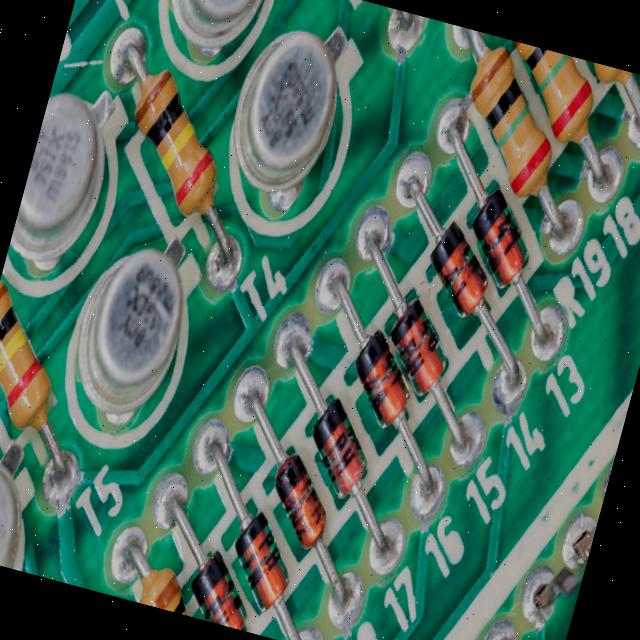resistor: (112, 58, 235, 225), (454, 45, 566, 196), (0, 274, 86, 451), (482, 38, 610, 152)
